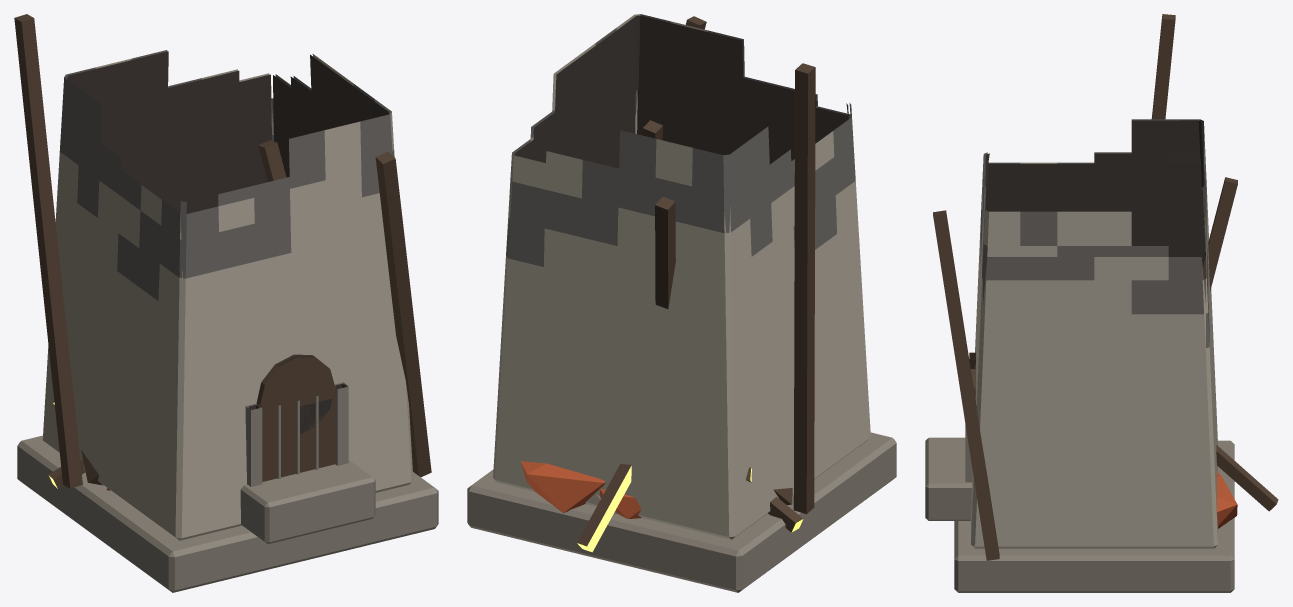
The model's file is Wachturm_Ruine.fbx.
3 renders of one model, left to right at view 1: azimuth 30°, elevation 25°; view 2: azimuth 150°, elevation 25°; view 3: azimuth 270°, elevation 25°, orthographic. The views are drawn at different scales.
Visible parts, largest first — view 1: Wachturm_Ruine; view 2: Wachturm_Ruine; view 3: Wachturm_Ruine.
Boxes of the visible parts, <box> form: Wachturm_Ruine: <box>14,14,438,592</box>; Wachturm_Ruine: <box>467,14,896,592</box>; Wachturm_Ruine: <box>925,14,1278,592</box>.
Size of the model in its own units: 3.94 by 5.99 by 4.28.
